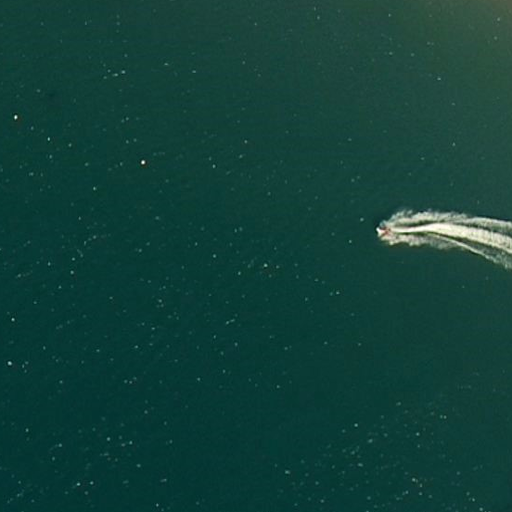ship: (374, 220, 396, 240)
